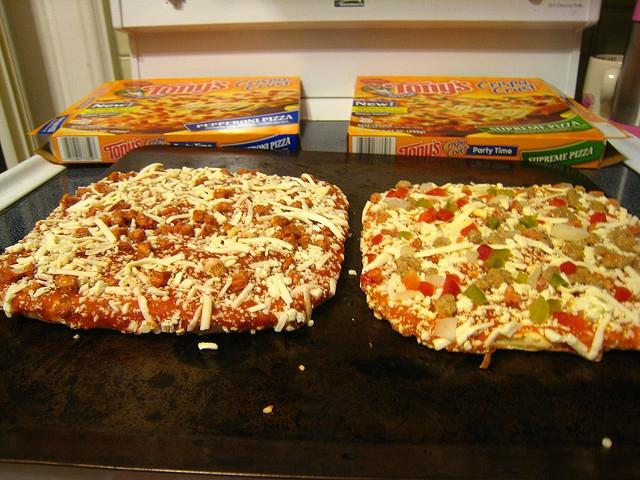bell pepper: (530, 294, 550, 323), (462, 284, 487, 306), (482, 255, 505, 272), (487, 248, 511, 260), (546, 298, 562, 316), (518, 216, 538, 230), (550, 272, 568, 287), (415, 198, 434, 210), (486, 216, 501, 230), (508, 199, 524, 212), (515, 270, 529, 284), (445, 200, 458, 214), (400, 231, 413, 239), (487, 189, 497, 197), (478, 103, 492, 107), (488, 118, 500, 122), (462, 186, 470, 191), (452, 102, 462, 106), (412, 98, 420, 103), (439, 96, 449, 100), (544, 94, 552, 98), (428, 123, 438, 126), (436, 110, 449, 112), (509, 97, 516, 100), (504, 116, 511, 119)
